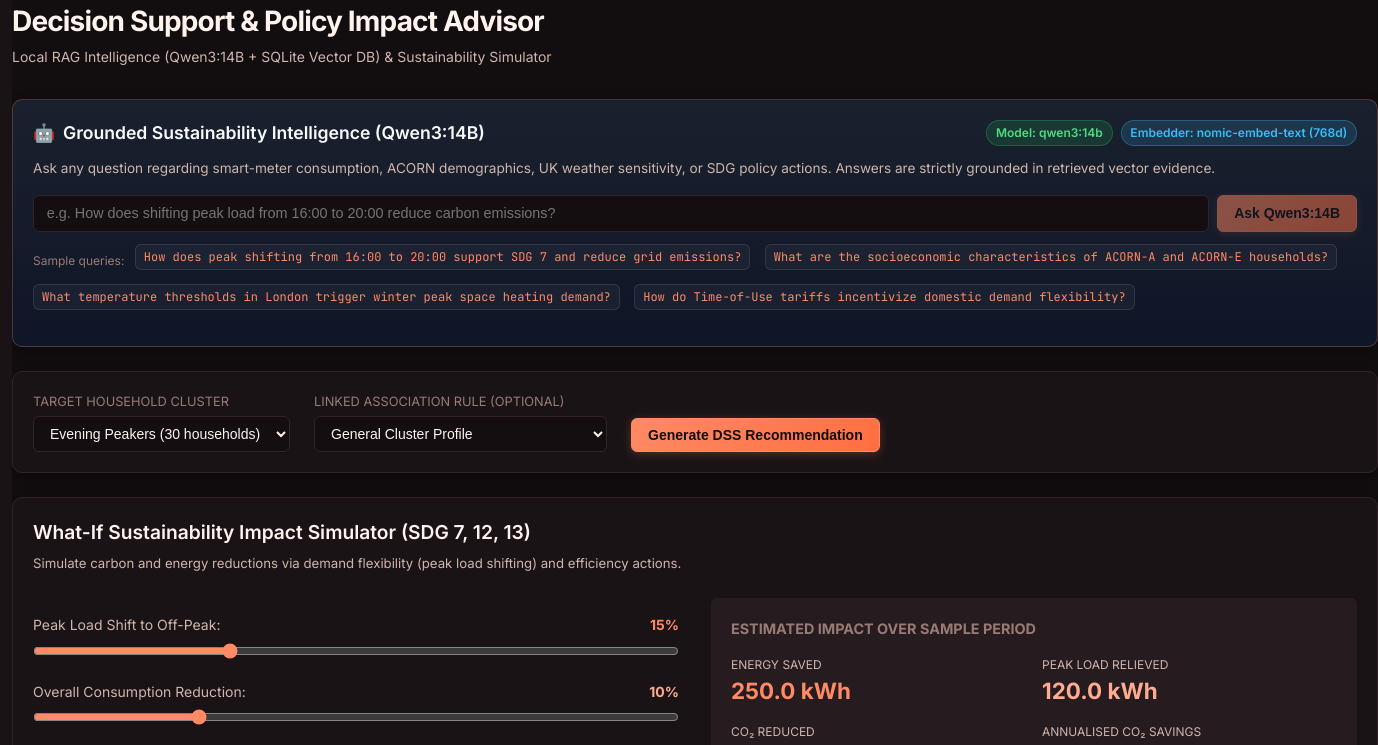
AdvisorPage Component › renders advisor page and simulates what-if impacts
Expected: the heading "Decision Support & Policy Impact Advisor" is shown, [12,0,552,42]
Expected: the text "250.0 kWh" is shown, [731,677,851,704]
Click Generate Recommendation button
Step 1. Click the button "Generate DSS Recommendation" → point(755, 434), box [631,418,880,452]
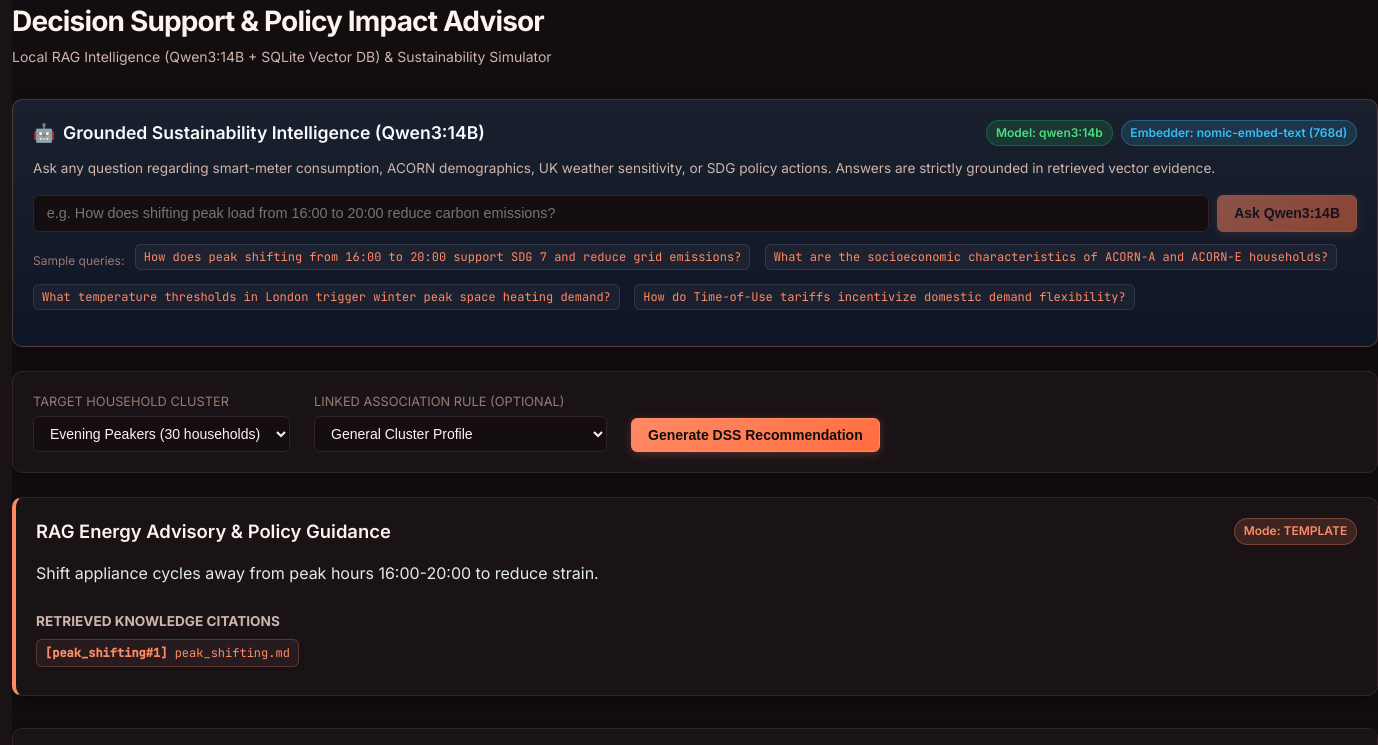
Expected: the text "Mode: TEMPLATE" is shown, [1234,518,1357,545]
Expected: the text "Shift appliance cycles away from peak hours" is shown, [36,563,599,583]
Expected: the text "[peak_shifting#1]" is shown, [45,645,167,661]
